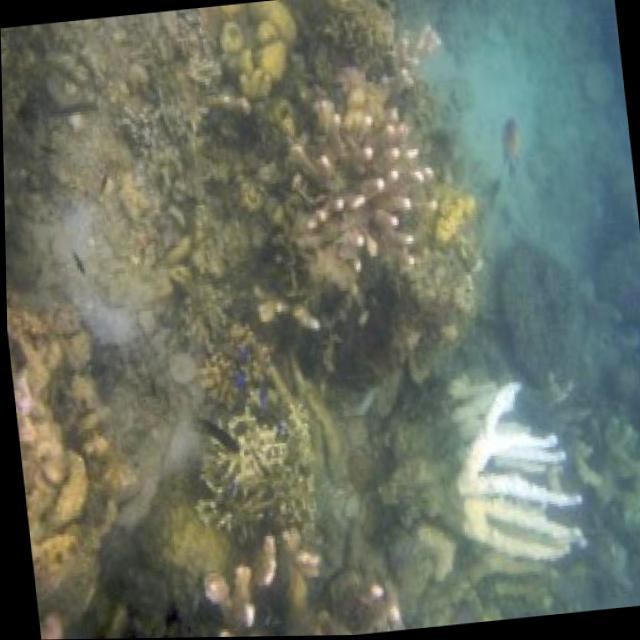Bleached Coral: (392, 376, 602, 629)
